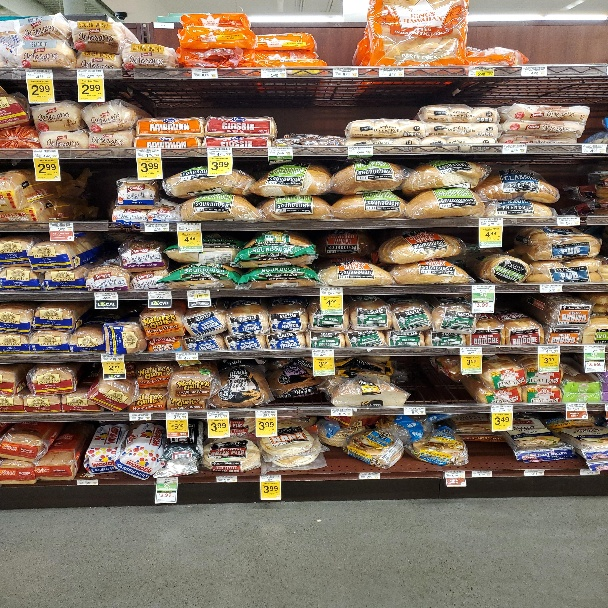All PRICE TAGS: (76, 69, 104, 80), (25, 70, 53, 80), (32, 149, 59, 159), (582, 144, 608, 154), (332, 67, 358, 77), (469, 66, 495, 76), (261, 68, 286, 78), (379, 67, 404, 77), (191, 69, 218, 78), (523, 66, 547, 76), (48, 222, 73, 231), (207, 147, 232, 156), (268, 146, 293, 155), (502, 144, 524, 154), (136, 148, 160, 157), (319, 287, 343, 296), (144, 223, 170, 231), (540, 284, 562, 293), (472, 284, 494, 293), (348, 146, 372, 154), (177, 223, 201, 231), (94, 292, 118, 300), (491, 405, 512, 414), (583, 345, 606, 353), (149, 291, 172, 299), (101, 354, 124, 362), (565, 403, 587, 411), (312, 349, 334, 357), (404, 406, 426, 414), (461, 347, 482, 355), (255, 410, 276, 418), (216, 475, 237, 483), (557, 218, 580, 225), (480, 219, 503, 226), (360, 472, 380, 480), (539, 346, 561, 353), (188, 290, 210, 297), (176, 353, 198, 360), (129, 413, 151, 420), (165, 412, 187, 419), (207, 411, 229, 418), (331, 408, 353, 415), (445, 471, 465, 478), (157, 478, 177, 485), (260, 475, 280, 482), (524, 470, 545, 476), (580, 469, 600, 475), (472, 471, 492, 477), (76, 480, 98, 485)
